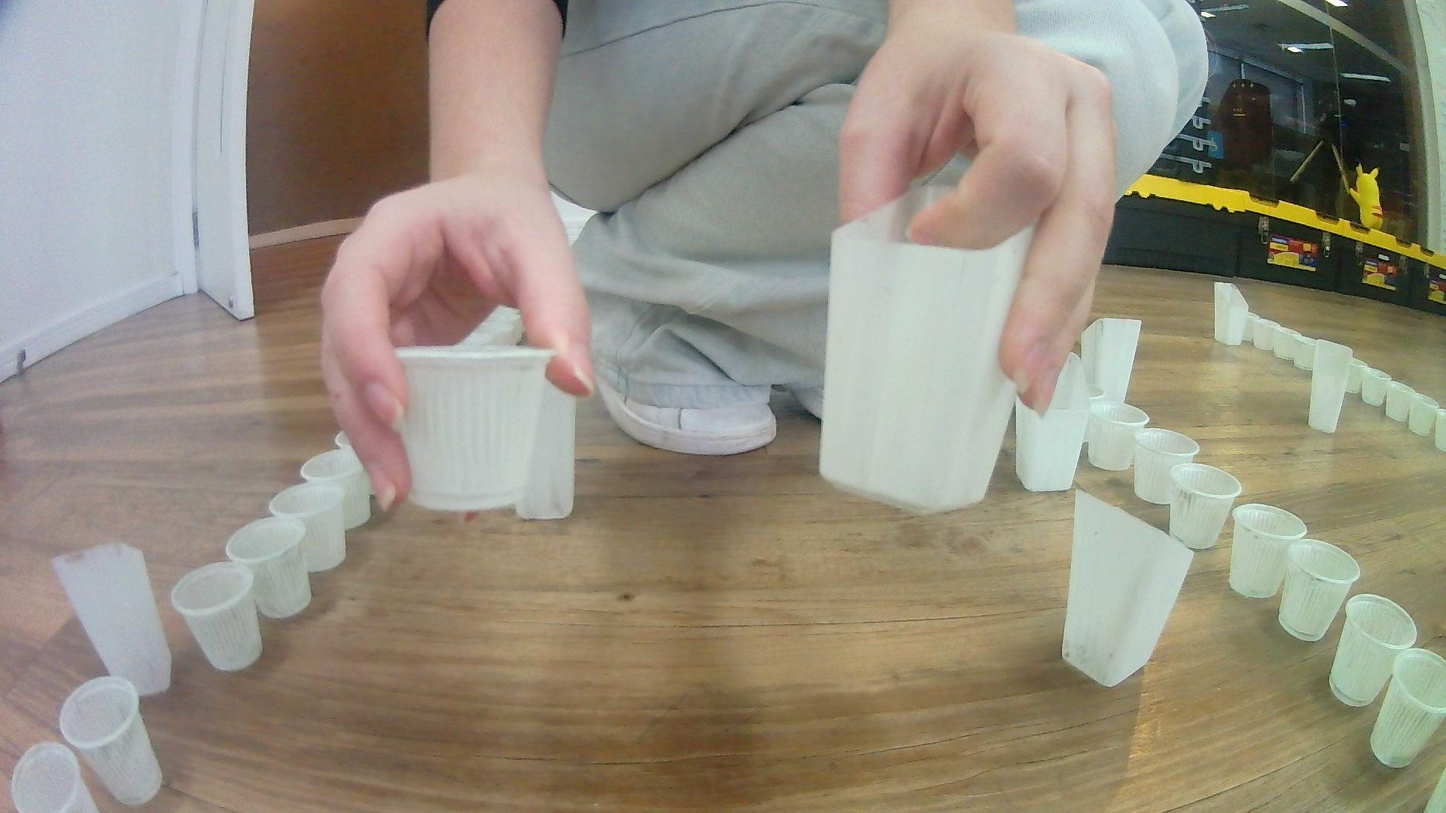erva_daninha: (816, 181, 1039, 515), (1060, 486, 1197, 690), (50, 541, 174, 698), (1014, 351, 1091, 493), (517, 379, 578, 521), (1080, 317, 1142, 406), (1307, 339, 1353, 434), (1213, 281, 1248, 347)
planta: (392, 345, 554, 513), (57, 675, 163, 807), (169, 561, 264, 673), (1330, 593, 1417, 708), (1369, 647, 1446, 769), (224, 516, 313, 620), (1278, 537, 1362, 642), (1229, 503, 1309, 598), (269, 485, 348, 573), (1167, 463, 1243, 550), (9, 742, 99, 813), (299, 449, 374, 531), (1133, 428, 1201, 507), (1081, 402, 1150, 471), (1408, 394, 1441, 437), (1385, 382, 1417, 422), (1362, 367, 1392, 406), (1426, 764, 1446, 813), (1252, 317, 1280, 352), (1273, 325, 1300, 361), (1292, 334, 1316, 371), (1344, 358, 1368, 392), (334, 431, 361, 454), (1241, 311, 1258, 343), (1435, 408, 1446, 452)
